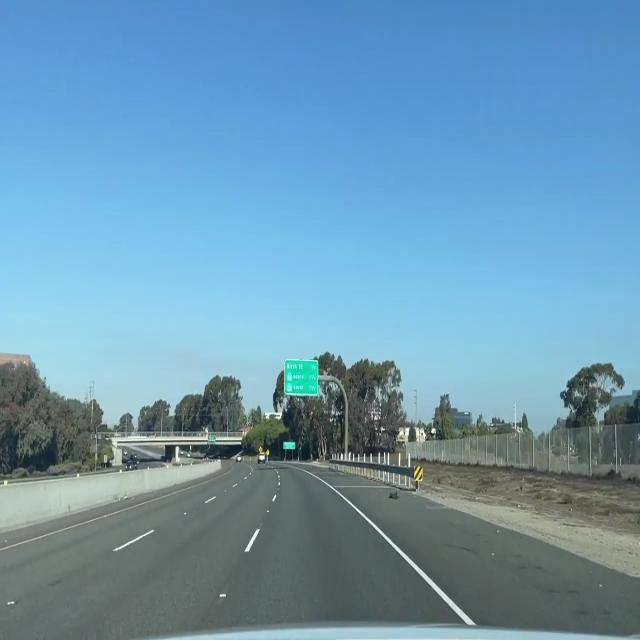street-signs: (284, 358, 318, 396), (284, 441, 296, 449)
